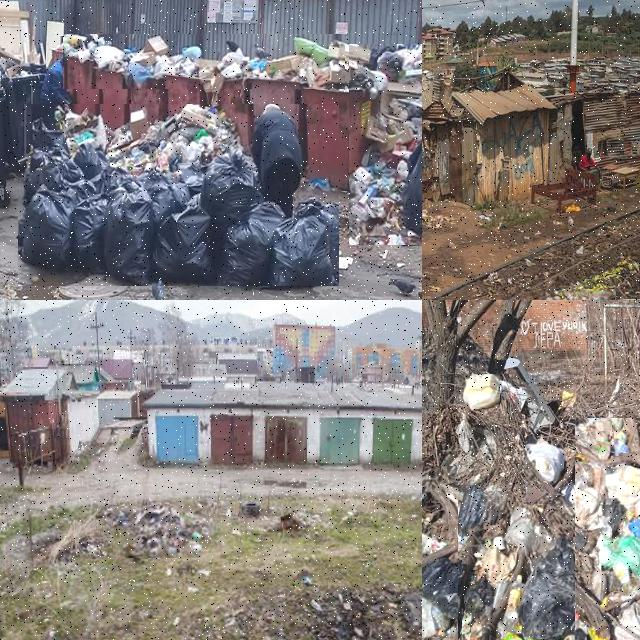lixeira: (18, 105, 340, 288), (462, 493, 639, 639), (63, 34, 346, 90), (349, 45, 421, 248), (114, 506, 204, 560), (0, 1, 48, 71), (525, 436, 566, 482), (463, 374, 501, 410), (521, 289, 618, 299), (57, 36, 93, 50)
